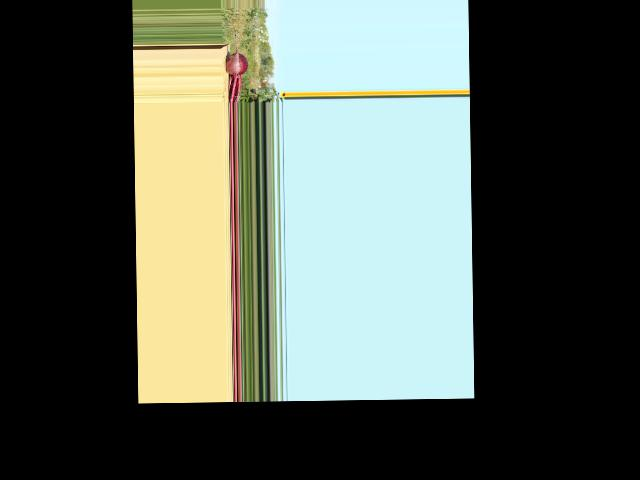beet: (224, 11, 248, 103)
